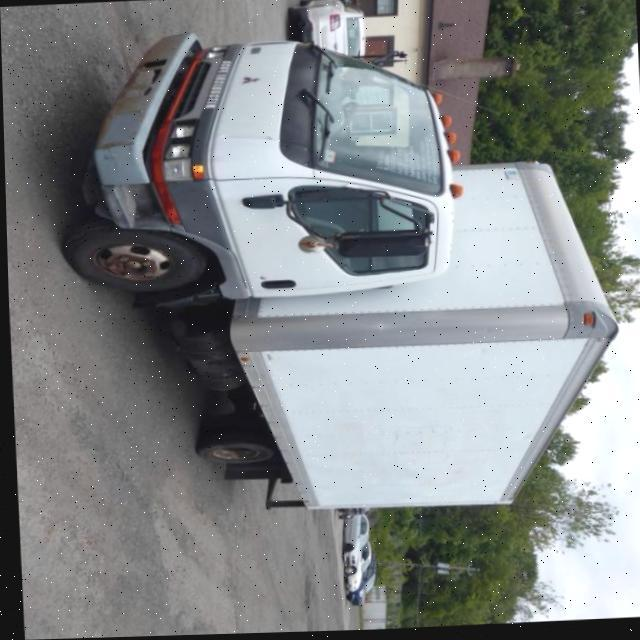truck: (57, 15, 622, 532)
